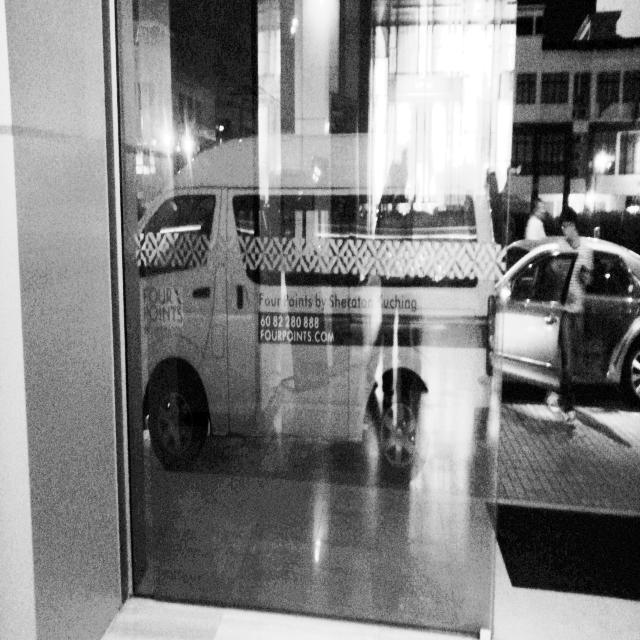Bus: (117, 53, 505, 554)
Car: (497, 202, 640, 413)
